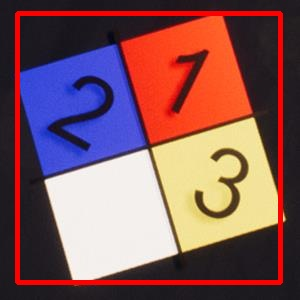nfpa: (17, 13, 280, 282)
